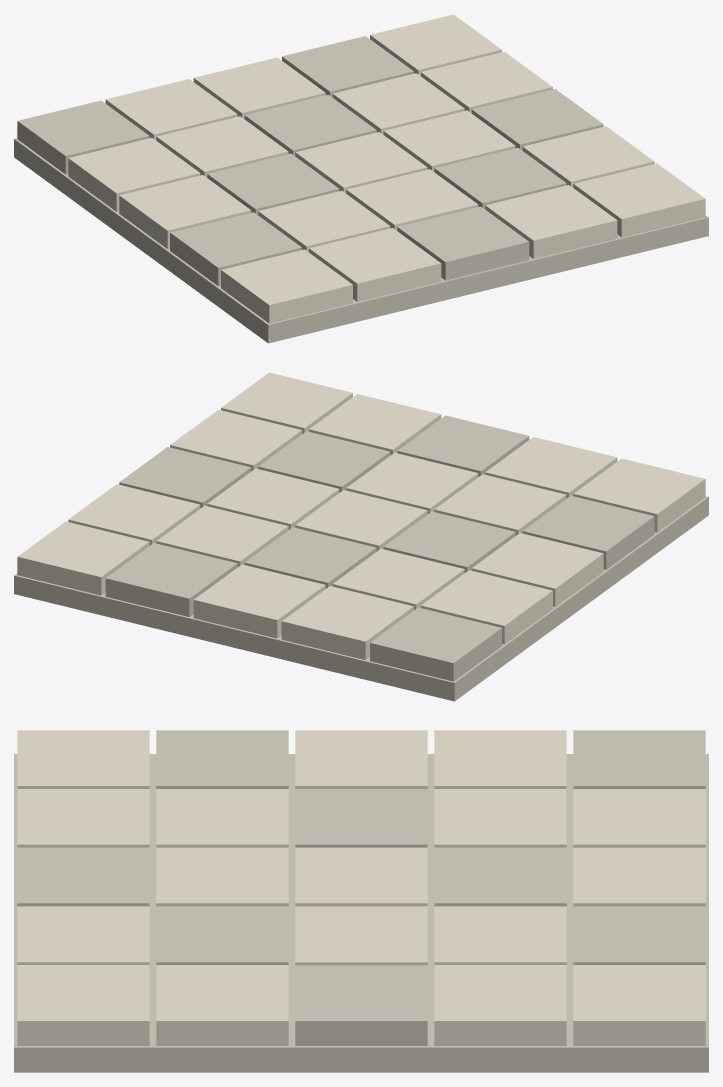
File: cobble-tile.glb
3 views of the same model, one above another, from view 1: azimuth 30°, elevation 25°; view 2: azimuth 150°, elevation 25°; view 3: azimuth 270°, elevation 25° (orthographic). The views are drawn at different scales.
Visible parts, largest first — view 1: cobble-tile; view 2: cobble-tile; view 3: cobble-tile.
Part boxes in pixels (x1,y1,x2,y2): cobble-tile: (14, 14, 708, 343); cobble-tile: (14, 372, 708, 701); cobble-tile: (14, 730, 708, 1072).
Size of the model in its own units: 2 by 0.16 by 2.
